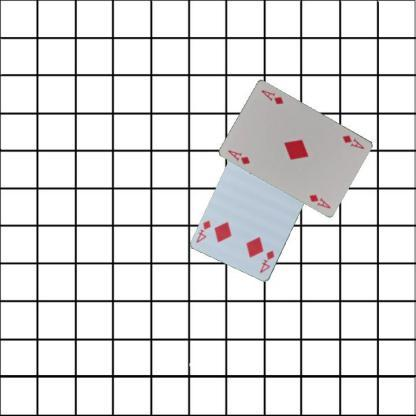4d: (257, 247, 276, 274)
Ad: (226, 147, 252, 166), (340, 132, 366, 150)
